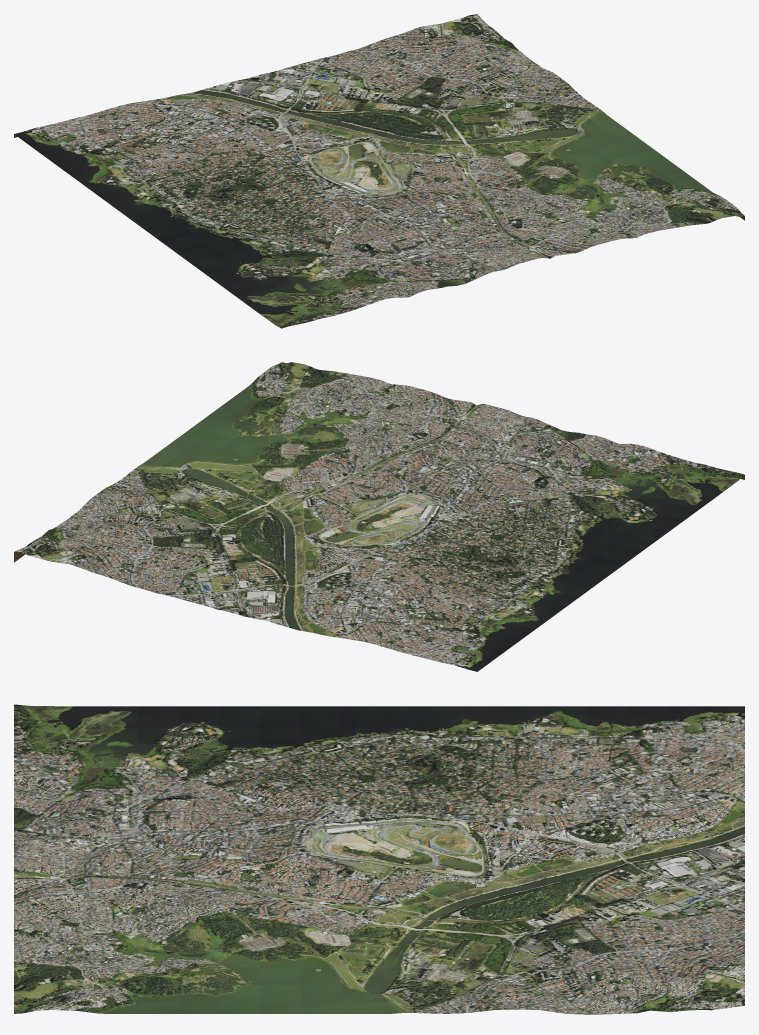
Rendered from 21_brazilian_gp.glb.
3 renders of one model, top to bottom at view 1: azimuth 30°, elevation 25°; view 2: azimuth 150°, elevation 25°; view 3: azimuth 270°, elevation 25°, orthographic. The views are drawn at different scales.
Visible parts, largest first — view 1: tinMesh; view 2: tinMesh; view 3: tinMesh.
Part boxes in pixels (x1,y1,x2,y2): tinMesh: (14,14,744,328); tinMesh: (14,362,744,671); tinMesh: (14,704,744,1014).
Size of the model in its own units: 5467 by 142 by 5467.
Materials: 2 (2 with a texture image).
